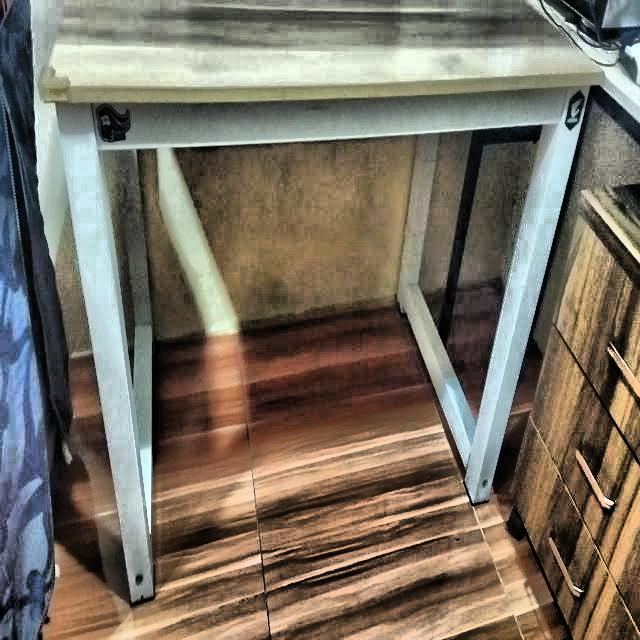mesa: (19, 0, 602, 552)
